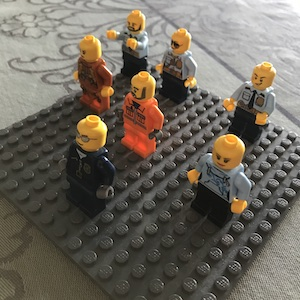Lego: (188, 136, 253, 228), (63, 116, 114, 218), (224, 62, 279, 143), (119, 73, 162, 157), (73, 37, 112, 114), (117, 10, 148, 81)
